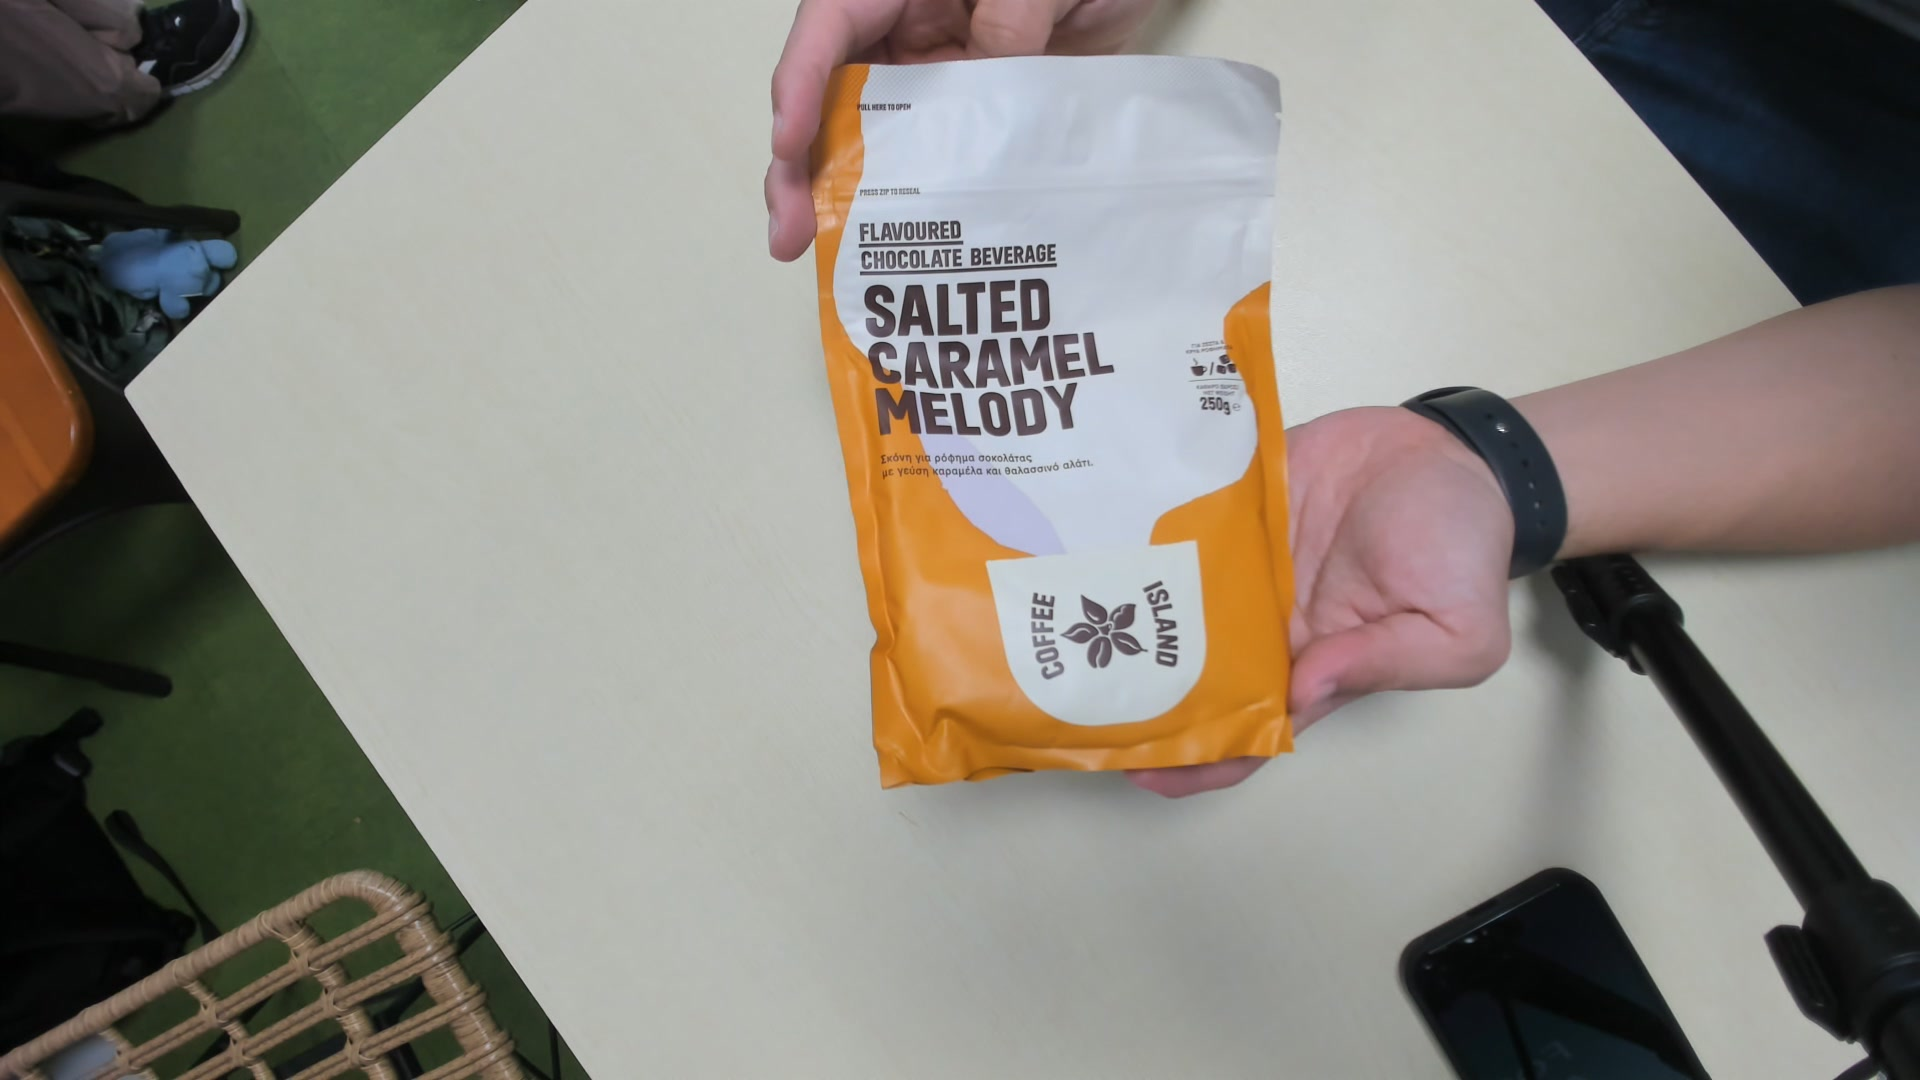Coffee_200-299g_NonHalal_NonHealthy: (815, 63, 1294, 778)
